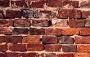brick: (58, 8, 81, 18), (13, 19, 30, 27), (32, 19, 49, 27), (67, 19, 84, 27), (60, 1, 79, 8), (23, 36, 42, 43), (8, 44, 26, 51), (58, 36, 73, 44), (75, 36, 90, 44), (50, 19, 67, 26), (61, 28, 79, 34), (4, 36, 22, 42), (29, 27, 44, 34), (6, 9, 20, 16), (43, 36, 57, 43), (45, 1, 61, 7), (13, 27, 26, 34), (45, 45, 60, 51), (62, 46, 77, 52), (1, 19, 12, 27), (1, 27, 12, 35), (27, 45, 44, 50), (45, 28, 59, 34), (80, 27, 90, 35), (29, 1, 44, 6), (78, 46, 90, 52), (11, 1, 28, 5), (1, 1, 10, 6)
